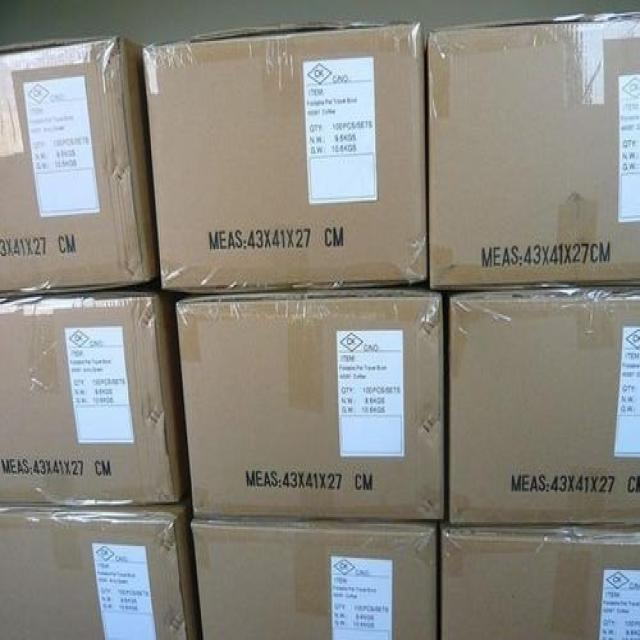box: (141, 20, 428, 292), (175, 285, 445, 522), (428, 14, 640, 290), (445, 288, 640, 527), (0, 32, 161, 297), (0, 292, 192, 510), (0, 488, 204, 640), (191, 519, 440, 640), (439, 526, 640, 640)
